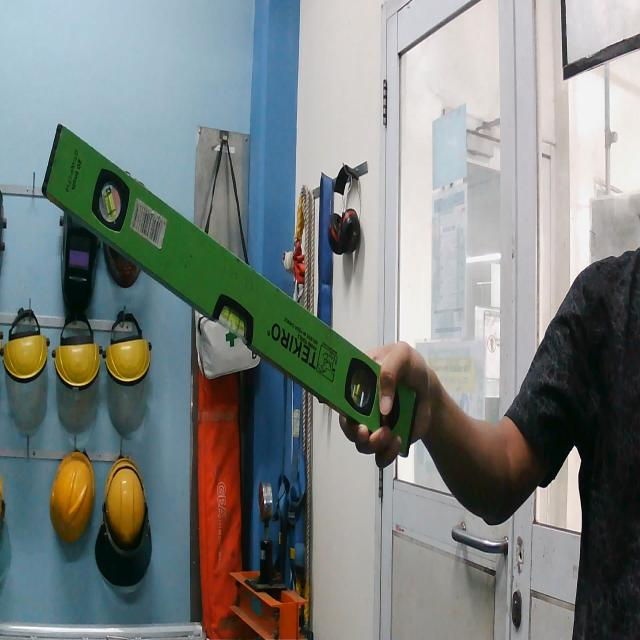water_pass: (38, 114, 425, 468)
